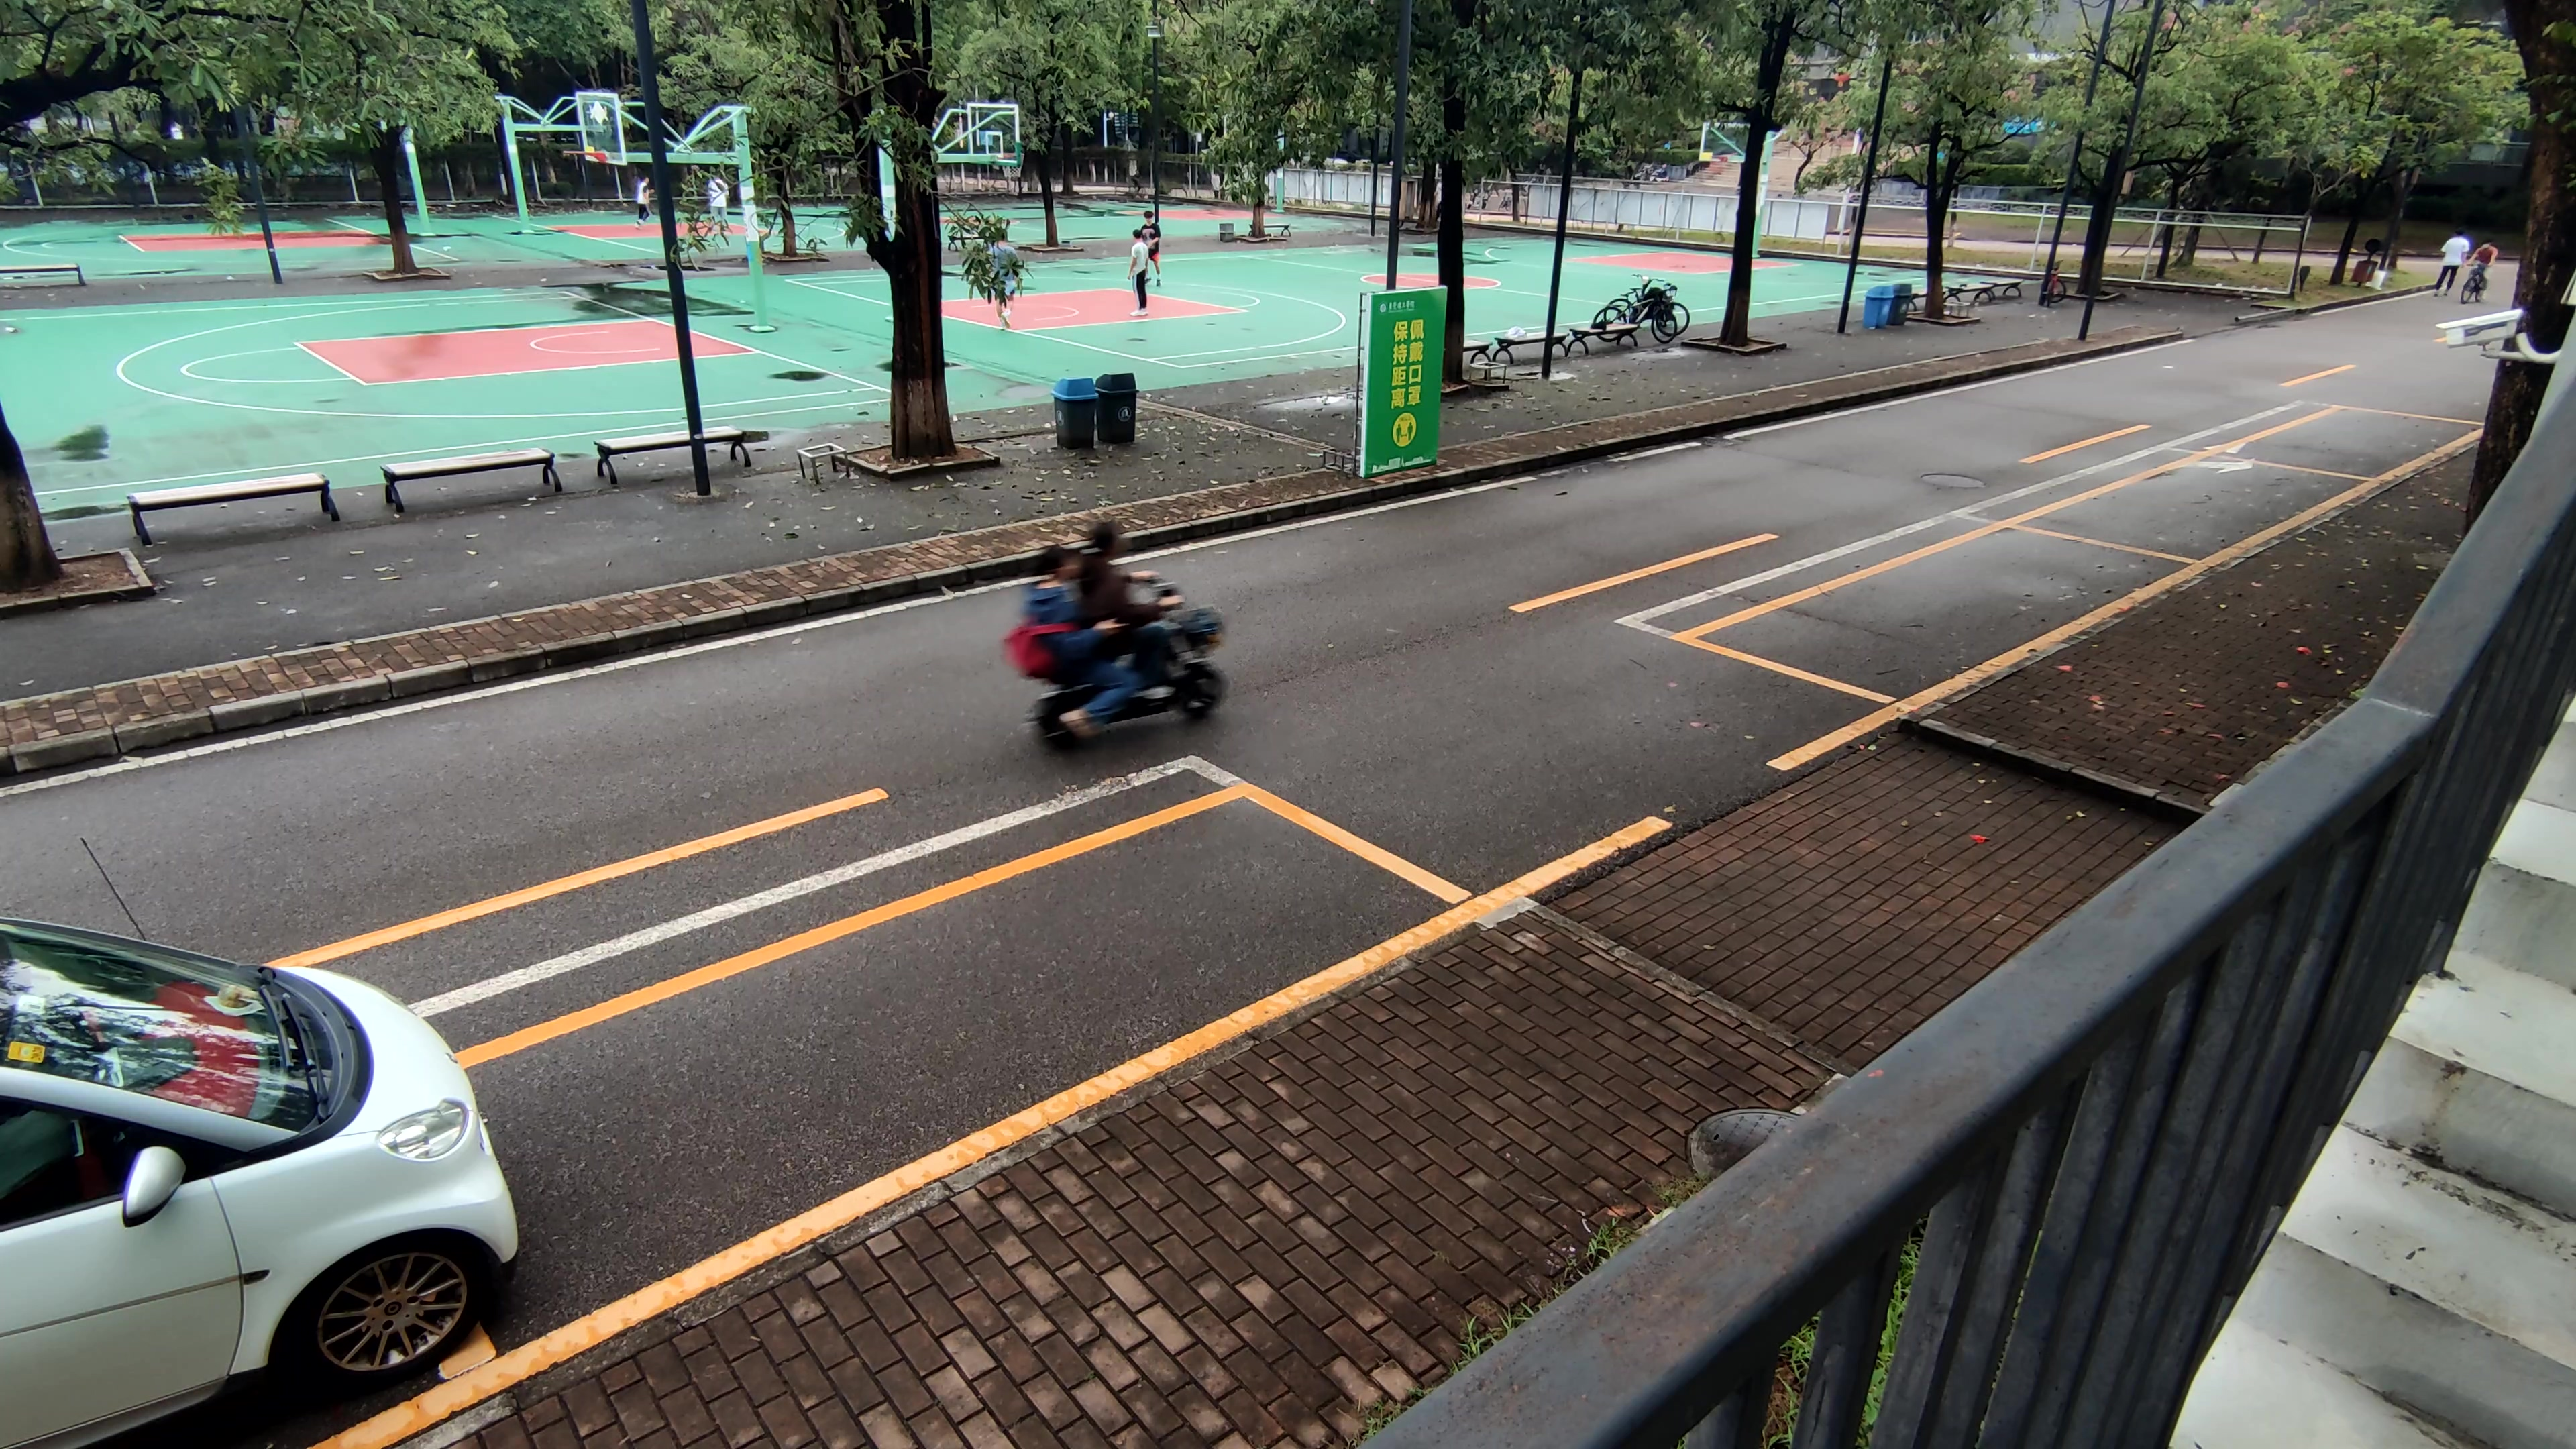space-empty: (322, 798, 1461, 1369), (1672, 511, 2199, 708), (2001, 439, 2373, 580), (2190, 384, 2480, 487)
